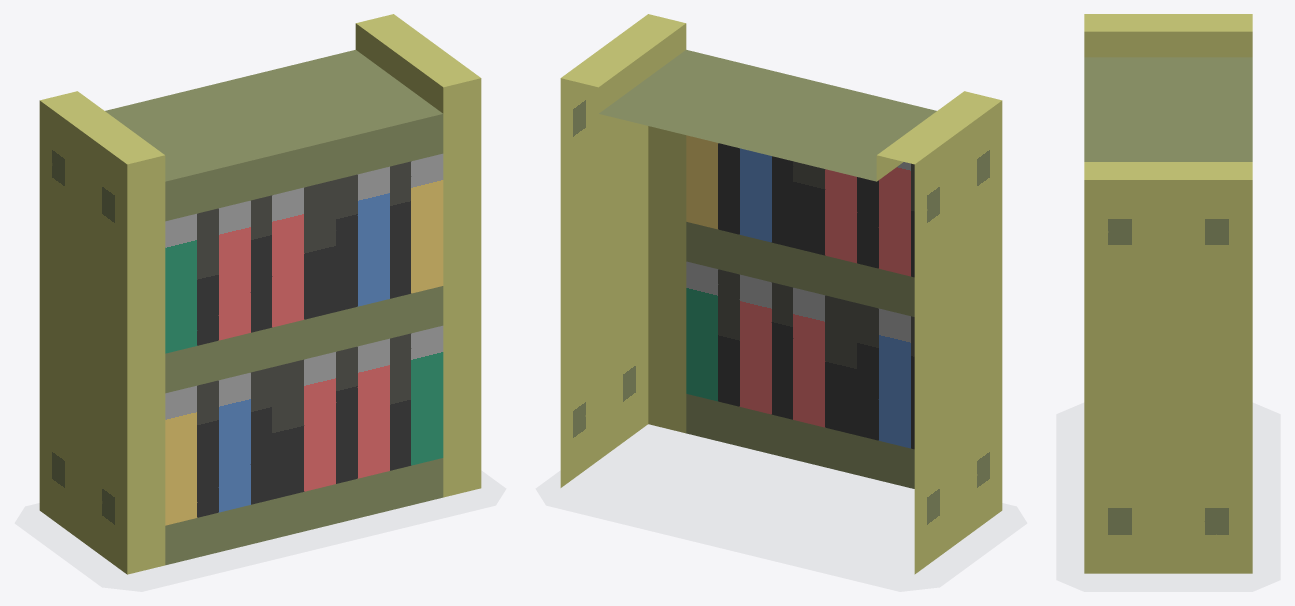
Rendered from Shelf 3.obj.
3 renders of one model, left to right at view 1: azimuth 30°, elevation 25°; view 2: azimuth 150°, elevation 25°; view 3: azimuth 270°, elevation 25°, orthographic. The views are drawn at different scales.
Parts seen in each view (by area): view 1: polygon1; view 2: polygon1; view 3: polygon1.
Part boxes in pixels (<box>): polygon1: <box>39,14,481,574</box>; polygon1: <box>560,14,1002,574</box>; polygon1: <box>1084,14,1252,573</box>.
Bounding box in the file's own units: 32 × 31.5 × 16.
